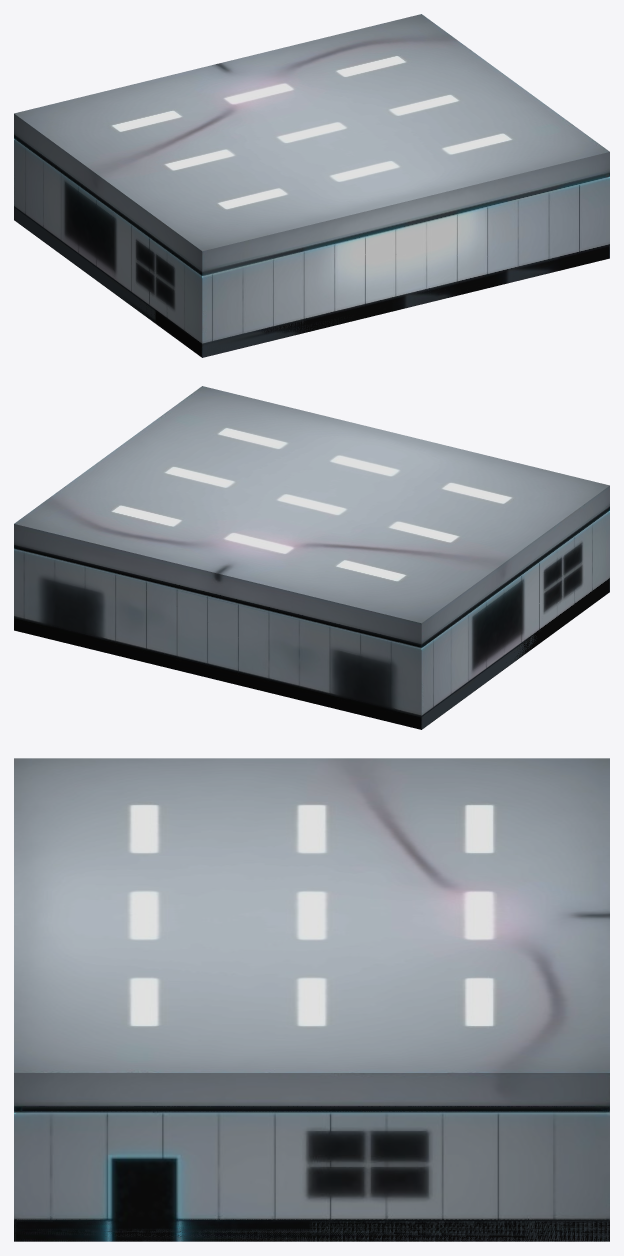
File: lab.glb
3 views of the same model, one above another, from view 1: azimuth 30°, elevation 25°; view 2: azimuth 150°, elevation 25°; view 3: azimuth 270°, elevation 25° (orthographic). The views are drawn at different scales.
Parts seen in each view (by area): view 1: bake_shell; view 2: bake_shell; view 3: bake_shell.
Part boxes in pixels (left/top/right/bottom): bake_shell: left=14, top=14, right=609, bottom=357; bake_shell: left=14, top=386, right=609, bottom=729; bake_shell: left=14, top=758, right=609, bottom=1241.
Bounding box in the file's own units: 40 × 10.01 × 32.
Materials: 7 (4 with a texture image).
